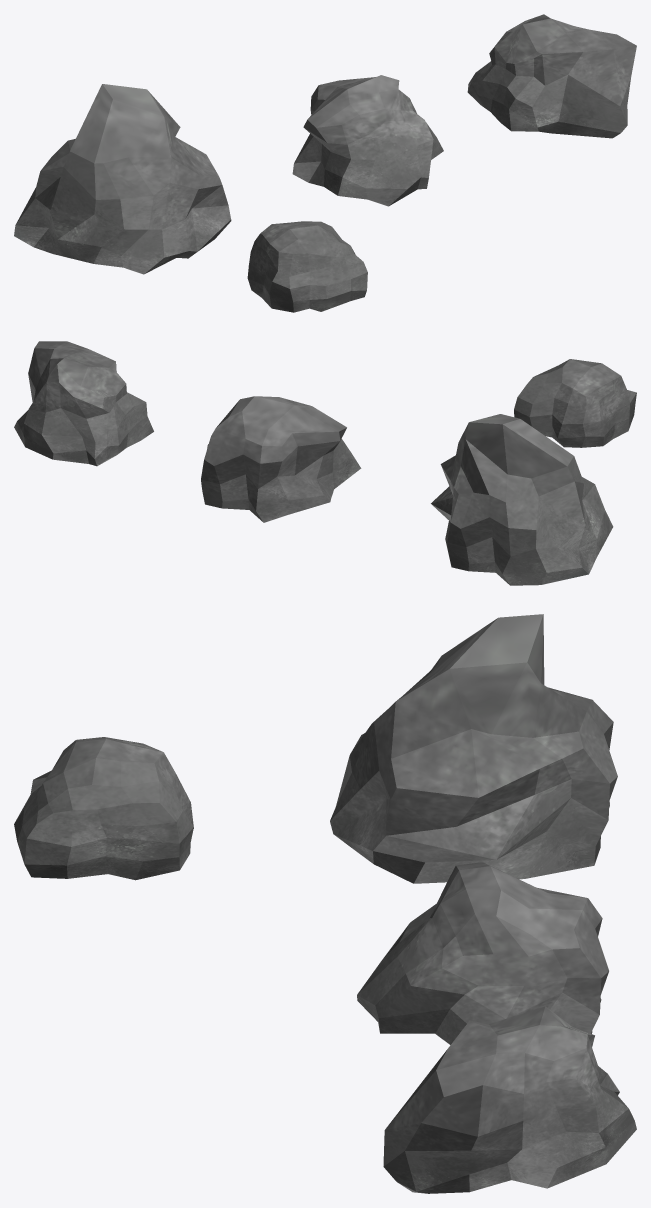
Rendered from Steine.fbx.
3 views of the same model, one above another, from view 1: azimuth 30°, elevation 25°; view 2: azimuth 150°, elevation 25°; view 3: azimuth 270°, elevation 25° (orthographic). The views are drawn at different scales.
Parts seen in each view (by area): view 1: Cube.002, Cube.003, Cube.001, Cube; view 2: Cube.002, Cube.001, Cube.003, Cube; view 3: Cube.002, Cube.003, Cube.001, Cube.
Part boxes in pixels (bbox=[...]): Cube.002: bbox=[14, 84, 231, 274]; Cube.003: bbox=[467, 14, 636, 138]; Cube.001: bbox=[292, 75, 443, 206]; Cube: bbox=[247, 221, 367, 312]; Cube.002: bbox=[431, 414, 613, 585]; Cube.001: bbox=[201, 396, 361, 522]; Cube.003: bbox=[14, 341, 153, 466]; Cube: bbox=[514, 359, 636, 447]; Cube.002: bbox=[330, 614, 617, 883]; Cube.003: bbox=[383, 1006, 636, 1193]; Cube.001: bbox=[357, 862, 608, 1044]; Cube: bbox=[14, 737, 193, 880].
Bounding box in the file's own units: 1488 × 344 × 863.
